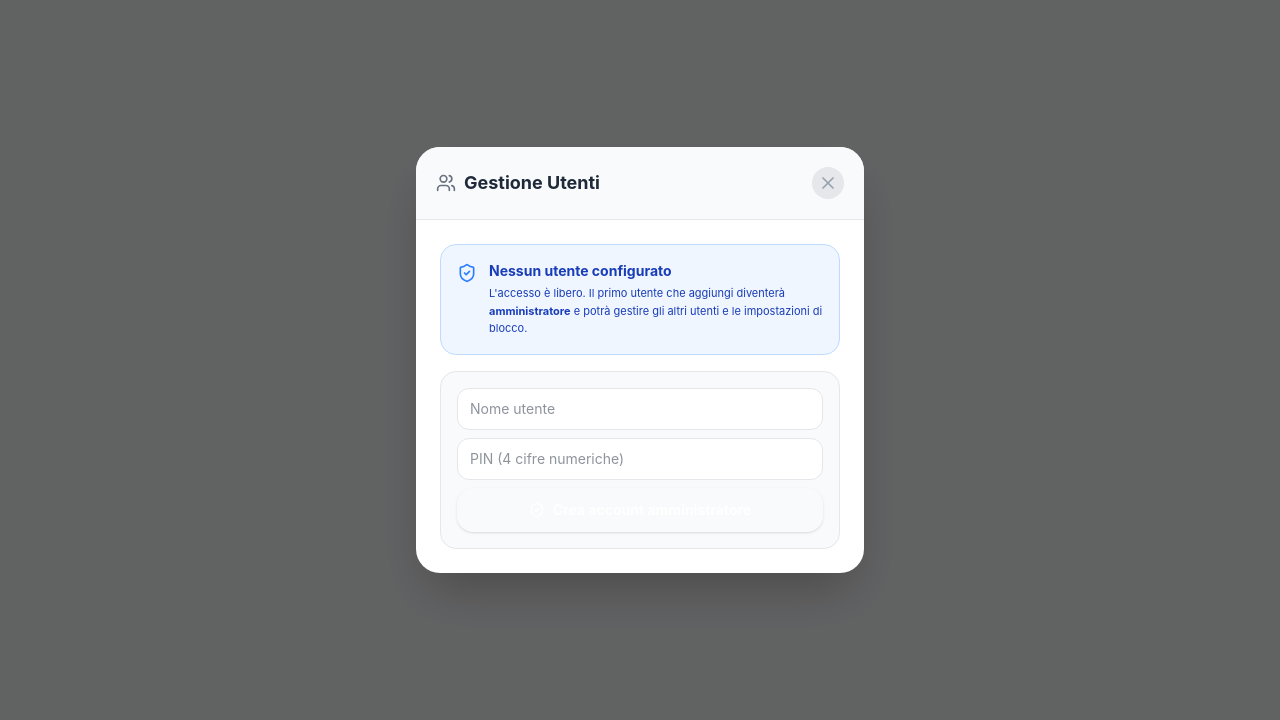
it: AddUserForm validation (first user) › shows an error when submitting with an empty name
The image size is (1280, 720).
# Leave name empty, fill a valid PIN
In the password field with placeholder "PIN (4 cifre numeriche)": (640, 459) [457, 438, 823, 480], type "1234"
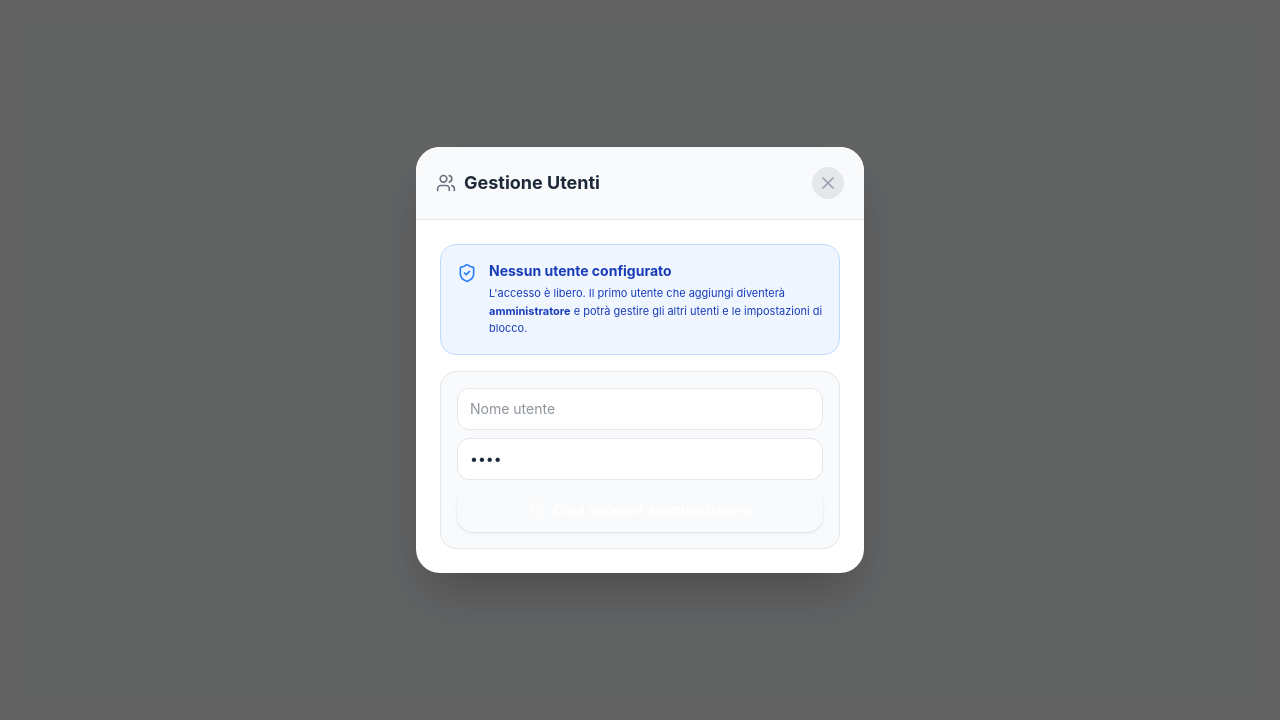
Click the button "Crea account amministratore": (640, 510) [457, 488, 823, 532]
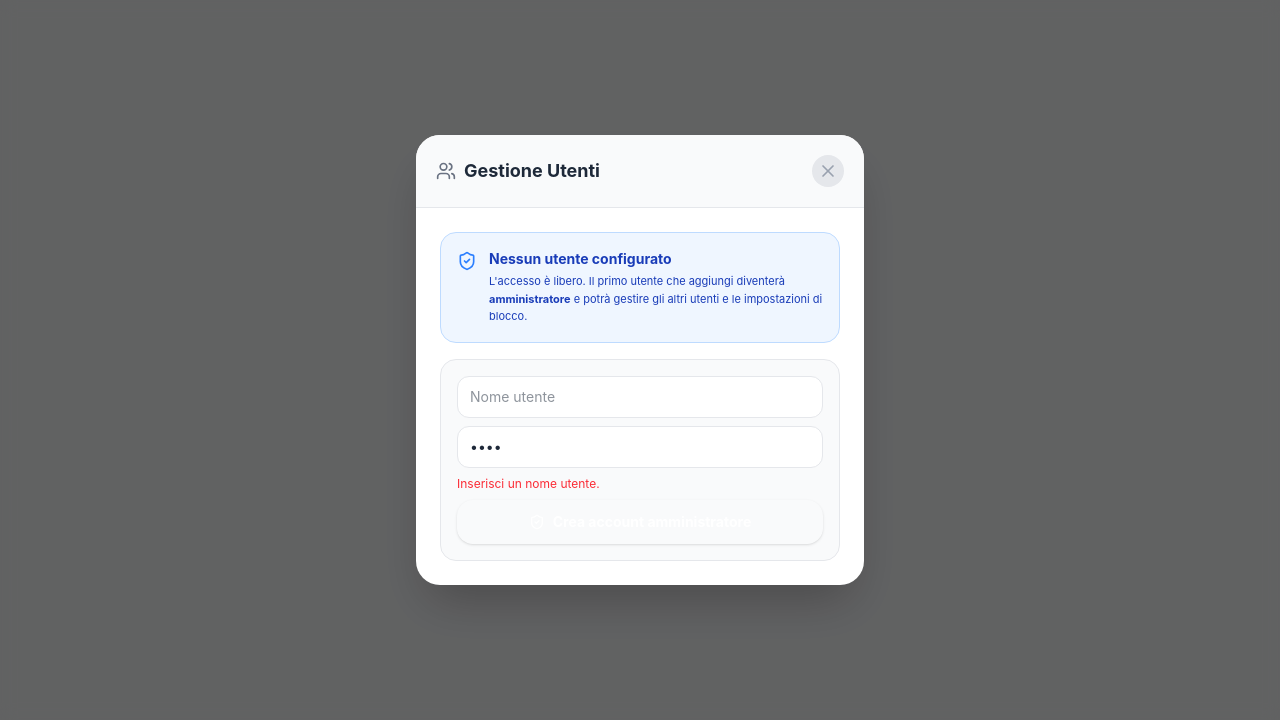
Expected: the text "Inserisci un nome utente." is shown, [457, 476, 600, 491]
